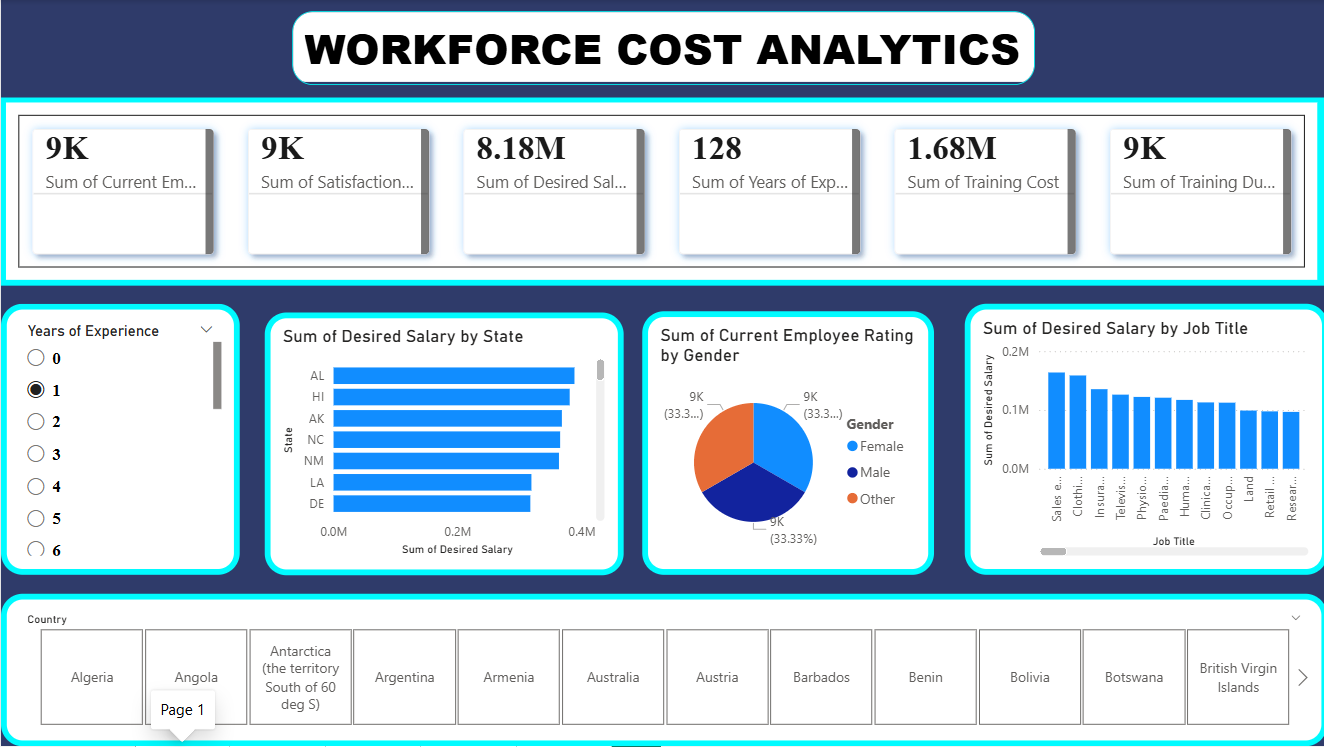

The dashboard page shown, as its layout file describes it:
{"tool":"powerbi","page":{"name":"Page 1","canvas":[1280,720],"ordinal":0},"visuals":[{"type":"cardVisual","fields":{"Data":["Sum(employee_data.Current Employee Rating)","Sum(employee_engagement_survey_data.Satisfaction Score)","Sum(recruitment_data.Desired Salary)","Sum(recruitment_data.Years of Experience)","Sum(training_and_development_data.Training Cost)","Sum(training_and_development_data.Training Duration(Days))"]},"box":[0,94.3,1280,181.4],"z":0},{"type":"slicer","fields":{"Values":["recruitment_data.Years of Experience"]},"box":[0,292.9,230,261.4],"z":1000},{"type":"textbox","title":"WORKFORCE COST ANALYTICS","box":[281.4,11.4,717.1,71.4],"z":2000},{"type":"barChart","fields":{"Category":["recruitment_data.State"],"Y":["Sum(recruitment_data.Desired Salary)"]},"box":[254.6,301.6,346.2,253.4],"z":3000},{"type":"pieChart","fields":{"Category":["recruitment_data.Gender"],"Y":["Sum(employee_data.Current Employee Rating)"]},"box":[618.6,300,281.4,254.3],"z":4000},{"type":"columnChart","fields":{"Category":["recruitment_data.Job Title"],"Y":["Sum(recruitment_data.Desired Salary)"]},"box":[930,292.9,350,261.4],"z":5000},{"type":"slicer","fields":{"Values":["recruitment_data.Country"]},"box":[0,572.9,1280,147.1],"z":6000}]}

Visuals, with their boxes in screenshot pixels (x1, y1, x2, y2), scaled from the page's 1280x720 canvas onto the 1324x747 screenshot:
cardVisual - Sum(employee_data.Current Employee Rating) x Sum(employee_engagement_survey_data.Satisfaction Score): (0, 98, 1323, 286)
slicer - recruitment_data.Years of Experience: (0, 304, 238, 575)
"WORKFORCE COST ANALYTICS" textbox: (291, 12, 1033, 86)
barChart - recruitment_data.State x Sum(recruitment_data.Desired Salary): (263, 313, 621, 576)
pieChart - recruitment_data.Gender x Sum(employee_data.Current Employee Rating): (640, 311, 931, 575)
columnChart - recruitment_data.Job Title x Sum(recruitment_data.Desired Salary): (962, 304, 1323, 575)
slicer - recruitment_data.Country: (0, 594, 1323, 746)
